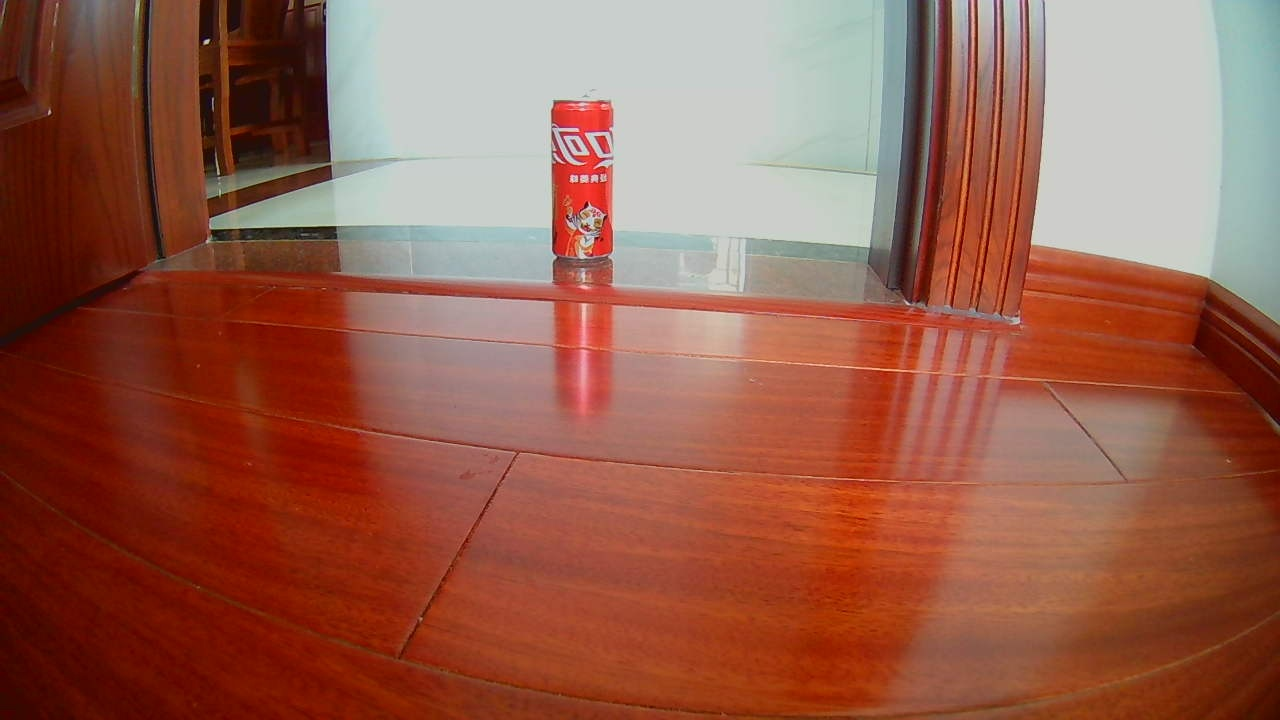cola: (547, 98, 620, 261)
